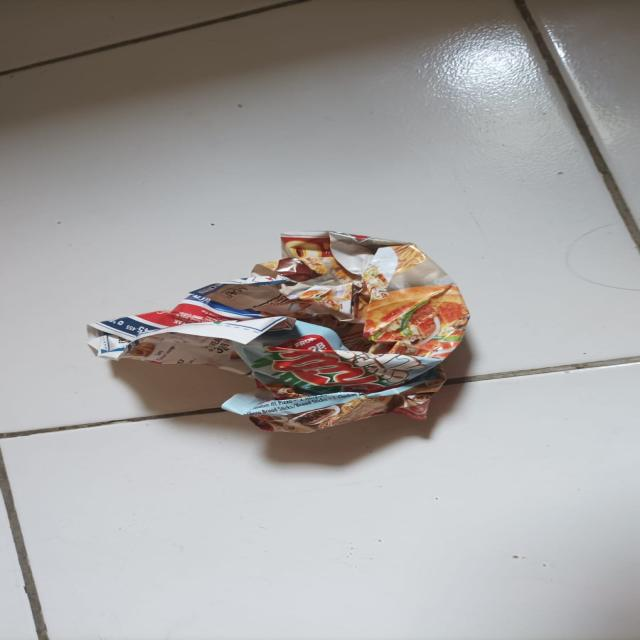Organik: (82, 234, 469, 432)
